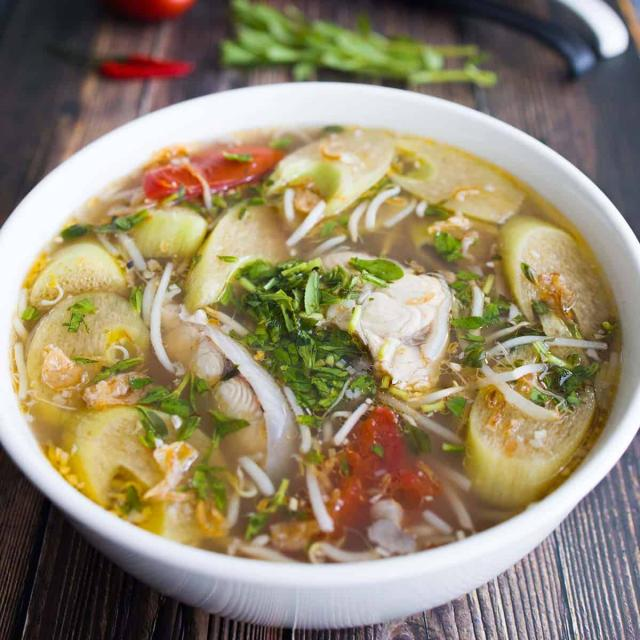canh chua: (9, 126, 637, 564)
